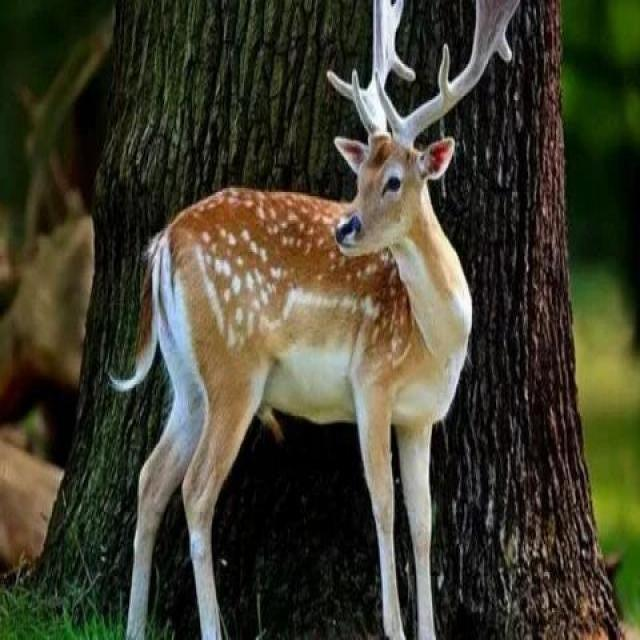deer: (130, 0, 491, 581)
